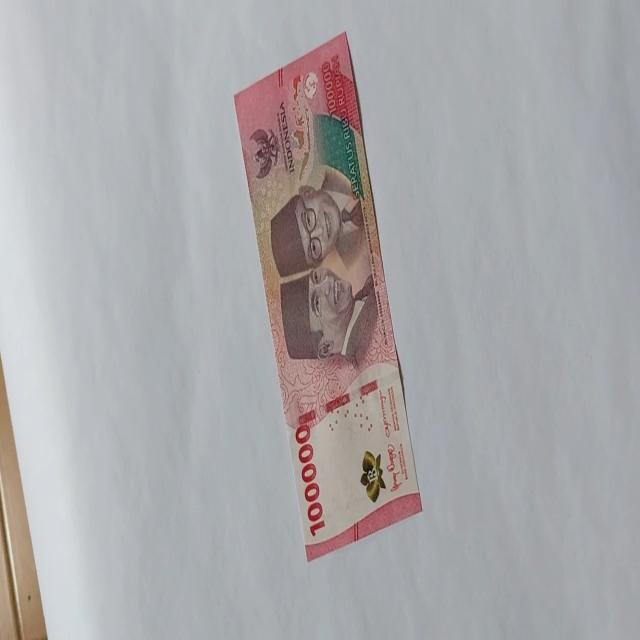seratus ribu rupiah: (233, 30, 423, 561)
